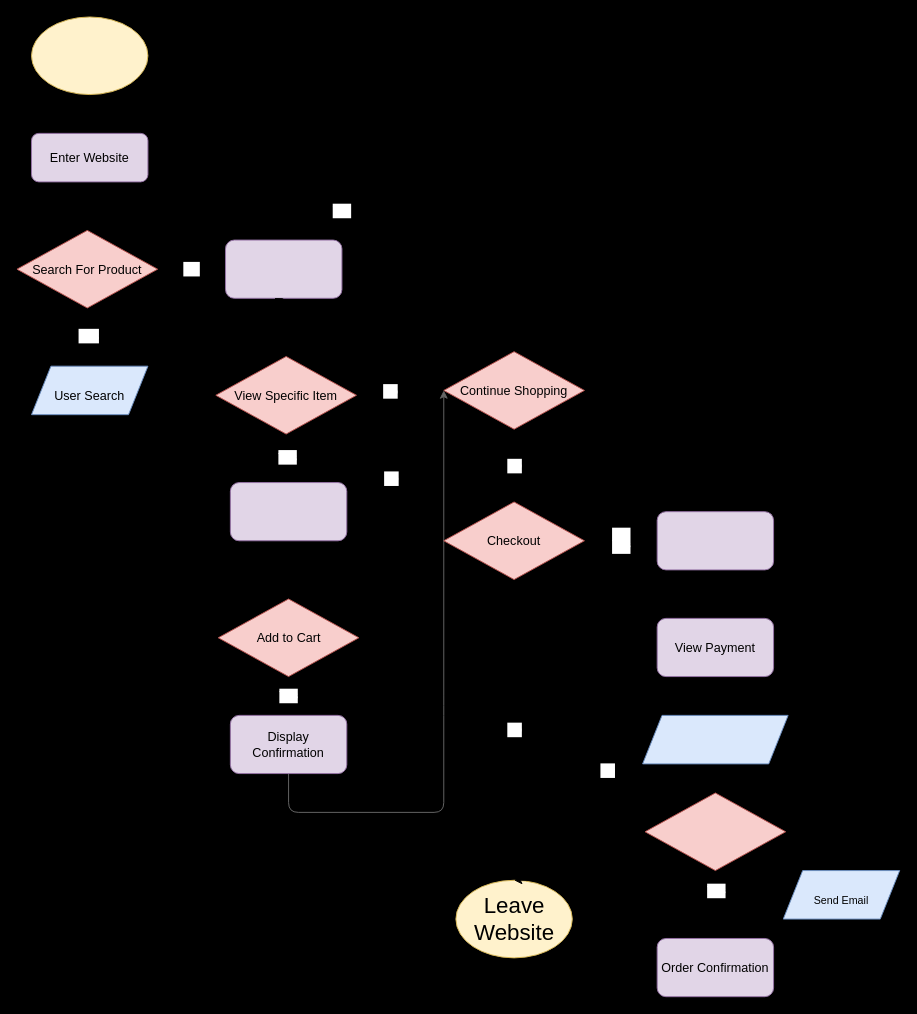
This 917x1014 diagram has some shape labels left out. The box of each missing label's shape, as (x1, y1, x2, y2) in pixels:
Browse Products: (225, 239, 342, 298)
Display Item Page: (229, 482, 347, 541)
Payment Information: (642, 714, 788, 764)
Payment Recieved: (644, 792, 786, 871)
Start: (31, 16, 148, 95)
View Cart: (656, 511, 774, 570)
